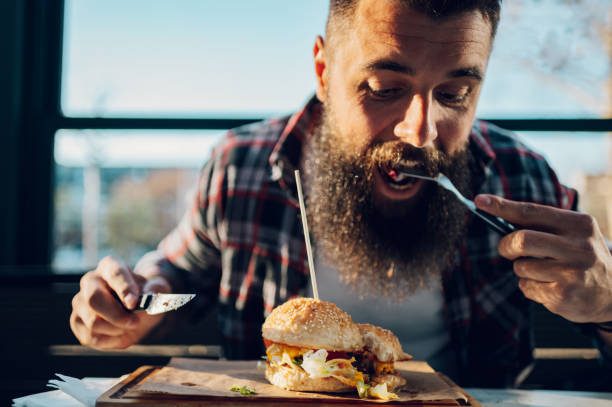knife: (136, 293, 199, 317)
